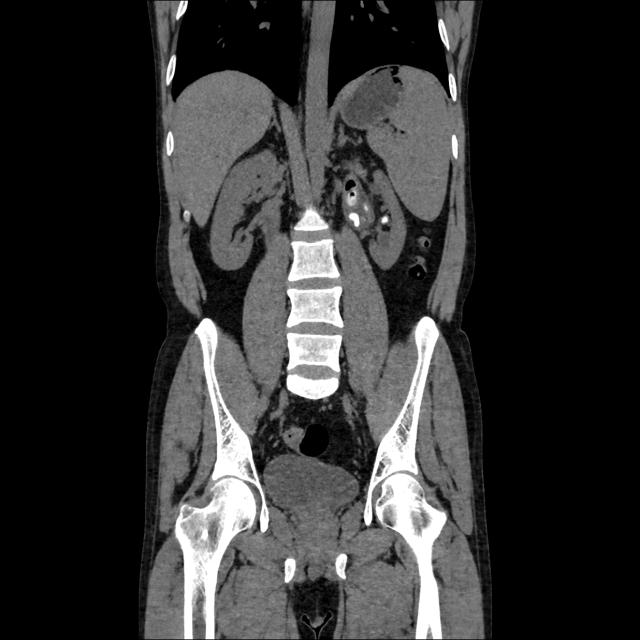kidneystone: (345, 179, 356, 206), (349, 213, 359, 227), (380, 213, 391, 225)
